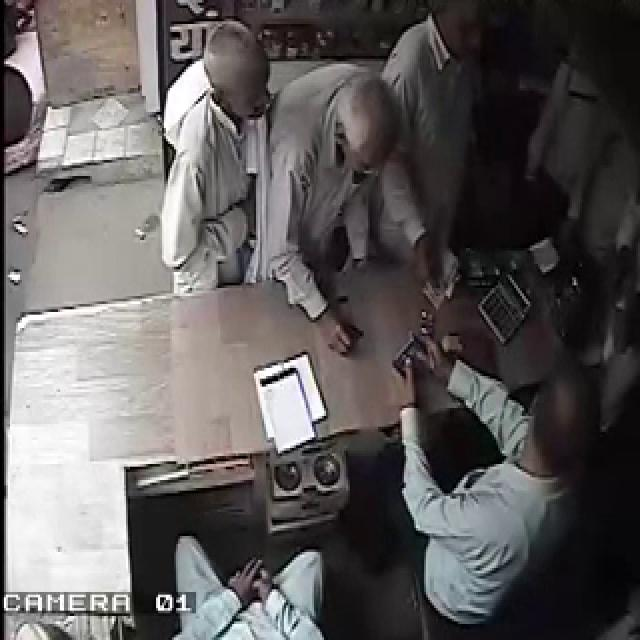shoplifting: (134, 7, 523, 379)
